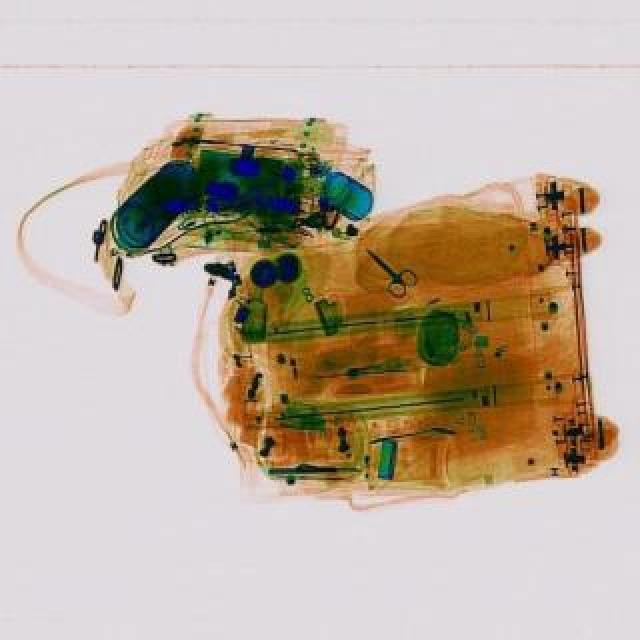pliers: (352, 238, 420, 300)
